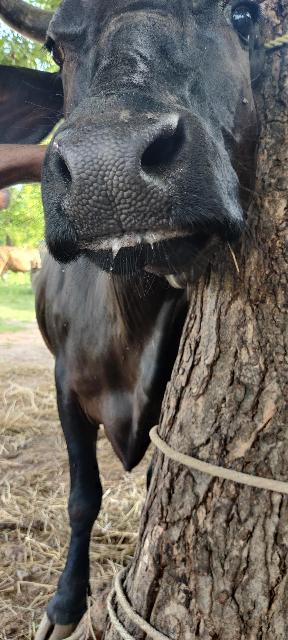Muzzle: (54, 130, 170, 236)
